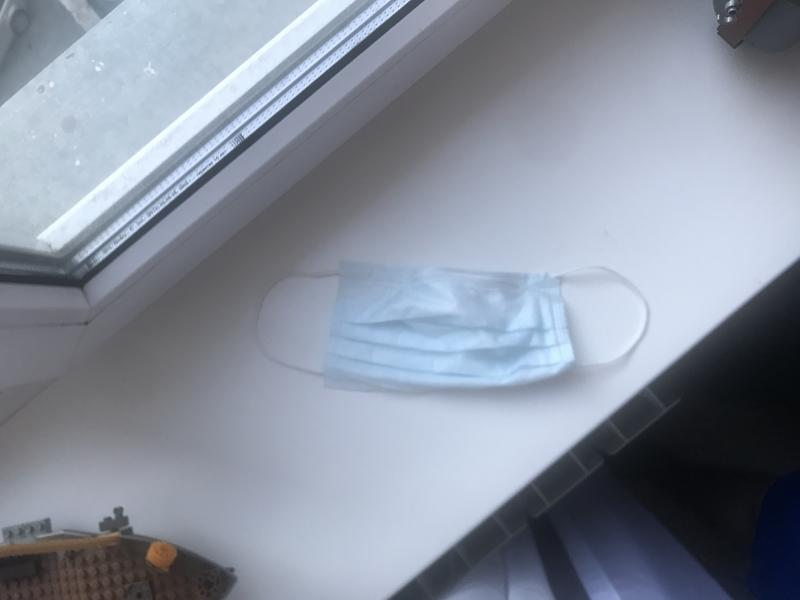medical_mask: (253, 263, 652, 387)
